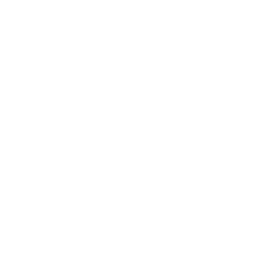do_not_iron: (4, 16, 256, 240)
